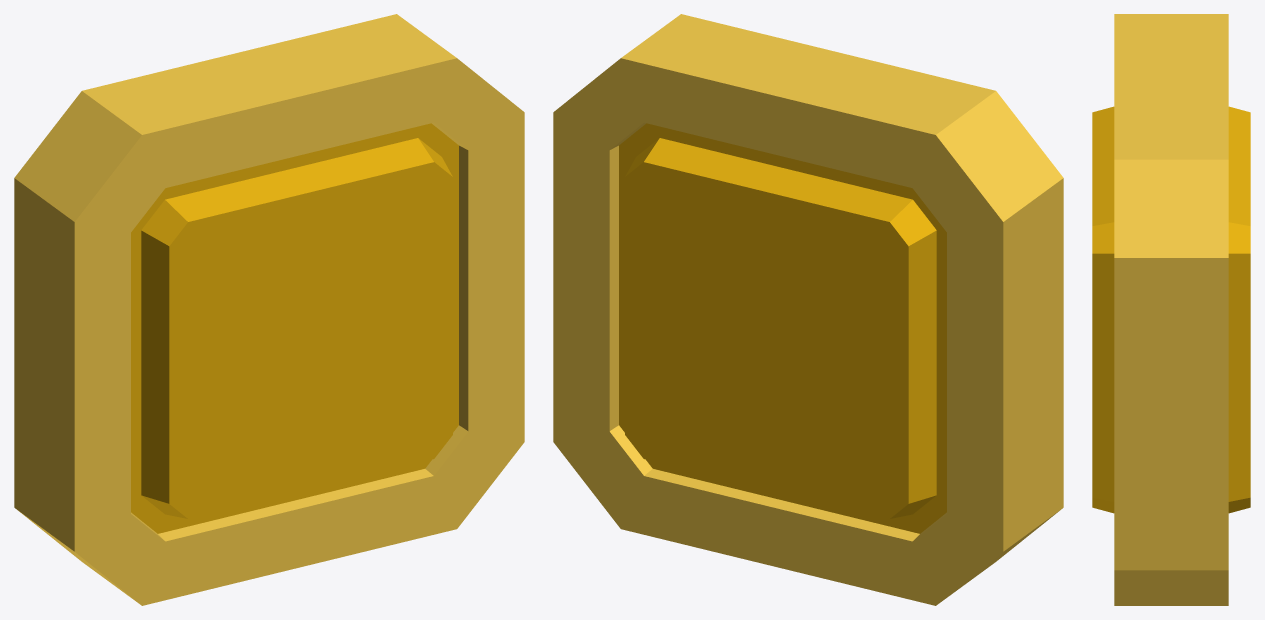
The model's file is SM_Coin_02.fbx.
3 renders of one model, left to right at view 1: azimuth 30°, elevation 25°; view 2: azimuth 150°, elevation 25°; view 3: azimuth 270°, elevation 25°, orthographic. The views are drawn at different scales.
Visible parts, largest first — view 1: pCube489; view 2: pCube489; view 3: pCube489.
Part boxes in pixels (bbox=[...]): pCube489: bbox=[14, 14, 524, 605]; pCube489: bbox=[553, 14, 1063, 605]; pCube489: bbox=[1092, 14, 1250, 605].
Bounding box in the file's own units: 52.85 × 52.85 × 16.98.
1 material, 1 textured.
